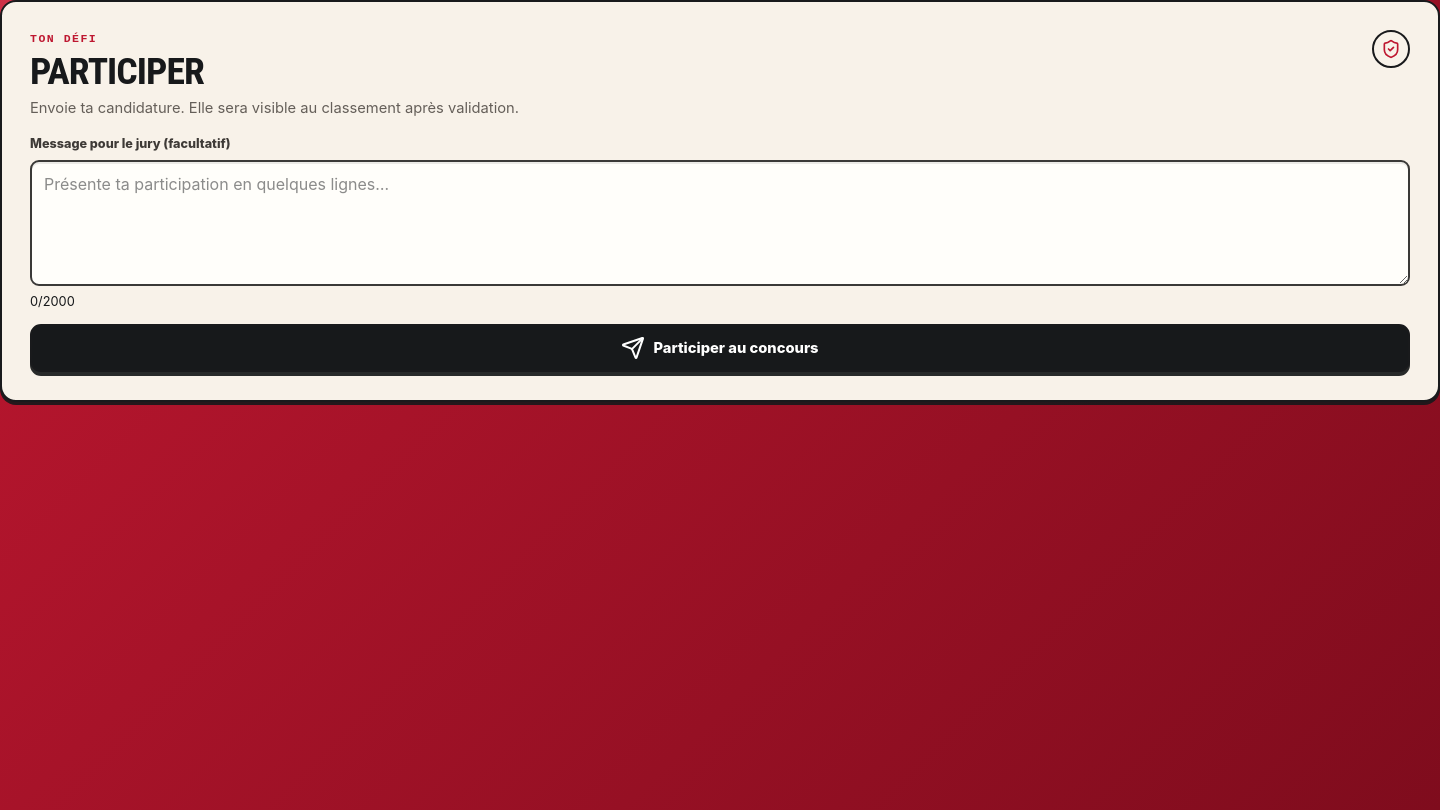
Test: contest participation first-click flow › shows both estimations even when the refresh after joining fails
Submit the form "Participer au concours", box [30,135,1410,372]
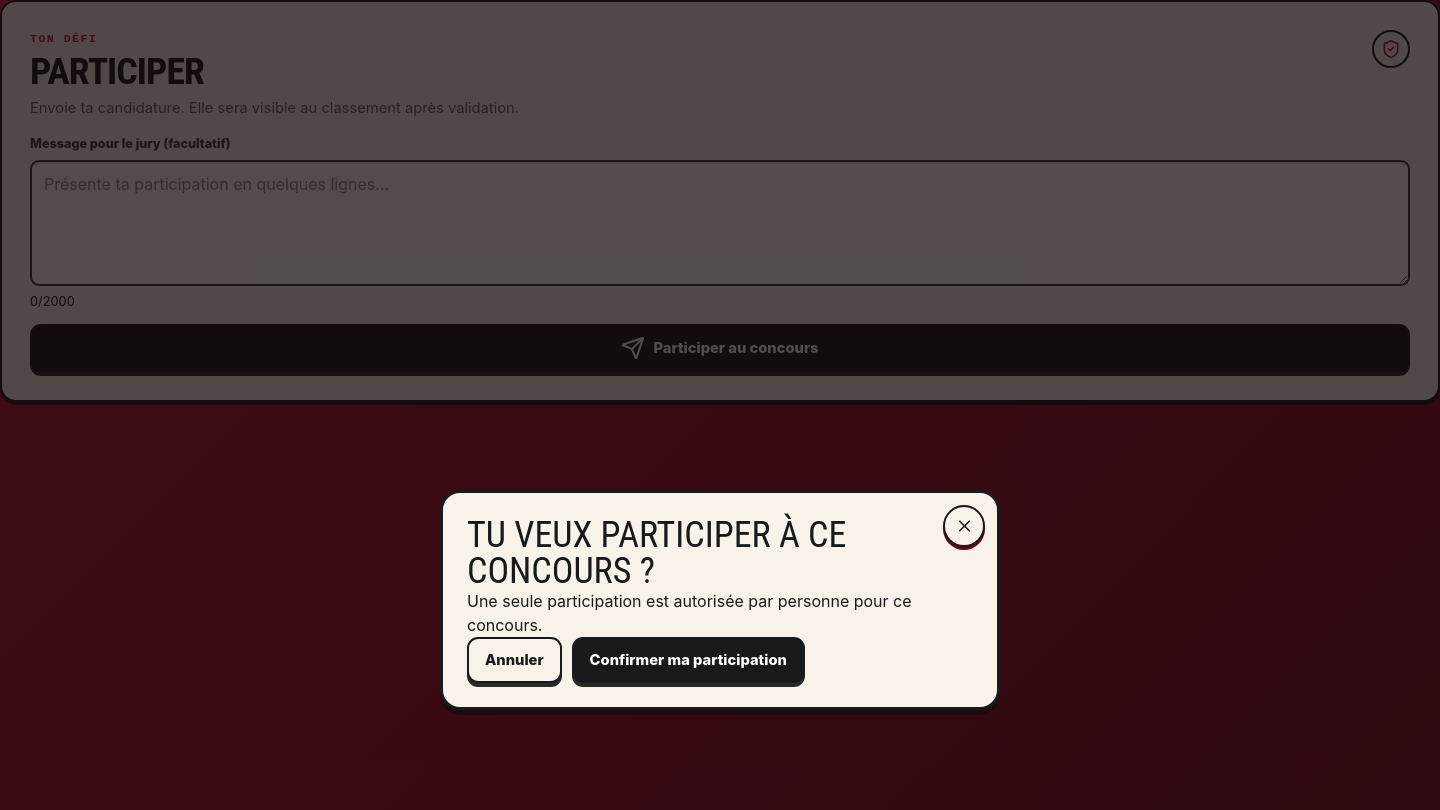
Click the button "Confirmer ma participation".
click(688, 660)  # box [572,637,805,683]
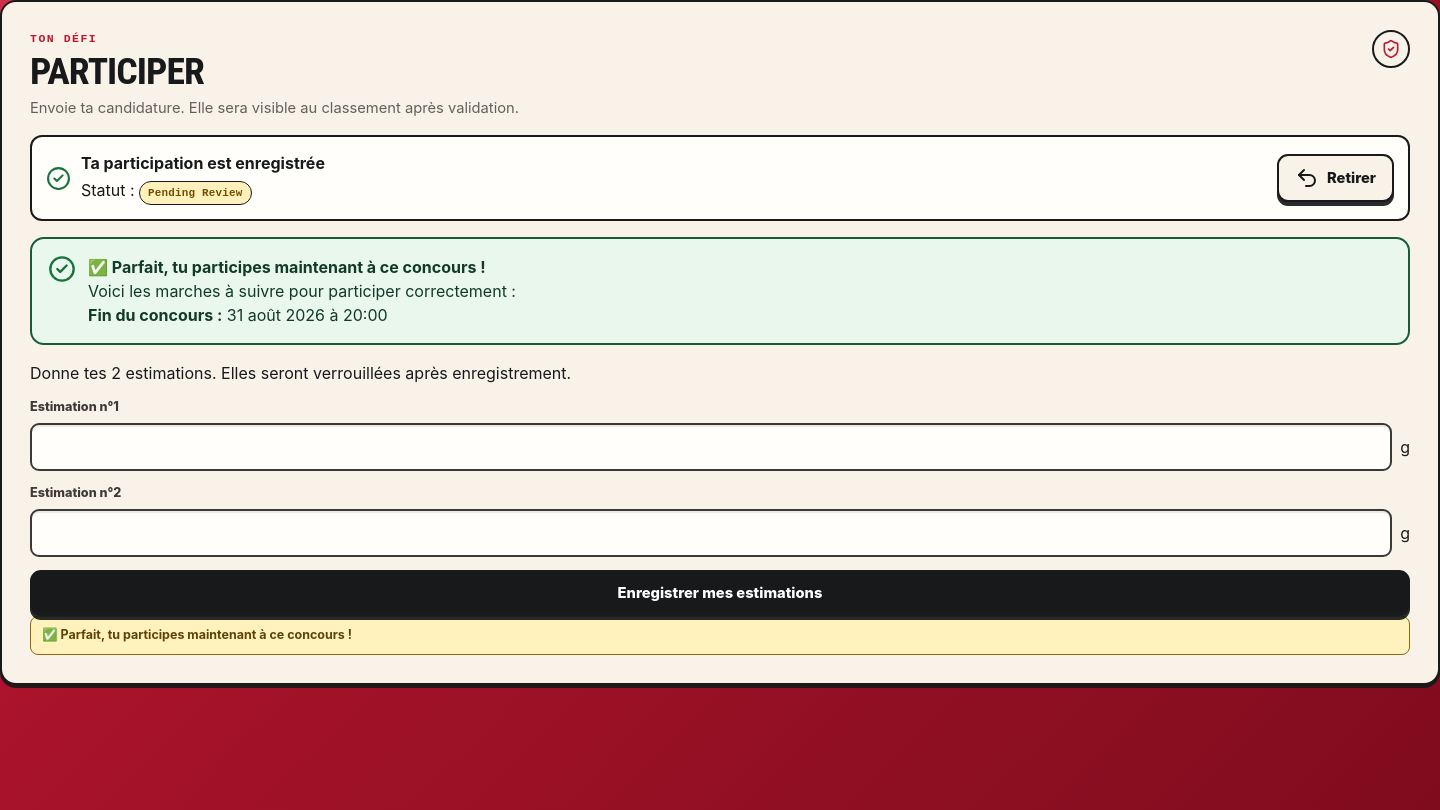
expect the number field labelled "Estimation n°1" is shown: met, box [30,423,1392,471]
expect the number field labelled "Estimation n°2" is shown: met, box [30,509,1392,557]
expect the text "✅ Parfait, tu participes maintenant à ce concours !" is shown 2 times: met, box [88,258,486,278]; [30,616,1410,655]
